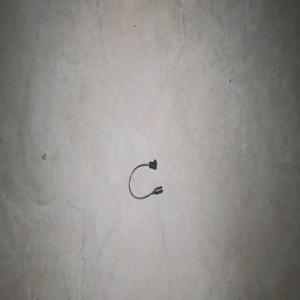Wire: (128, 159, 163, 199)
